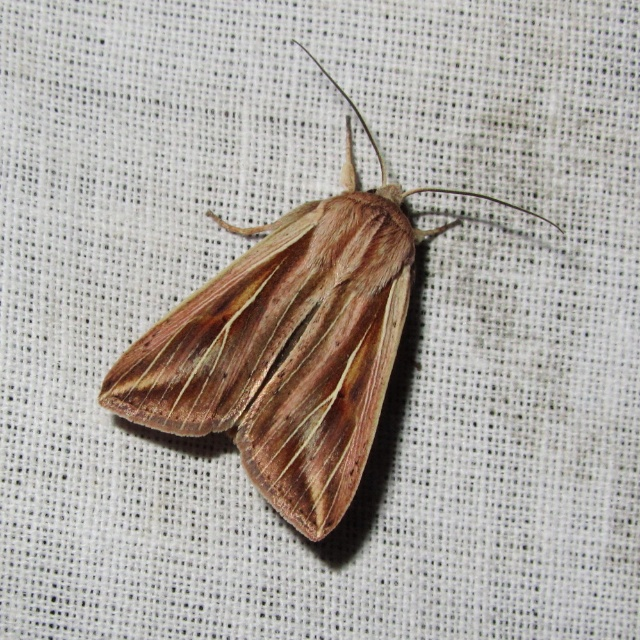Moths and butterflies: (93, 36, 569, 542)
